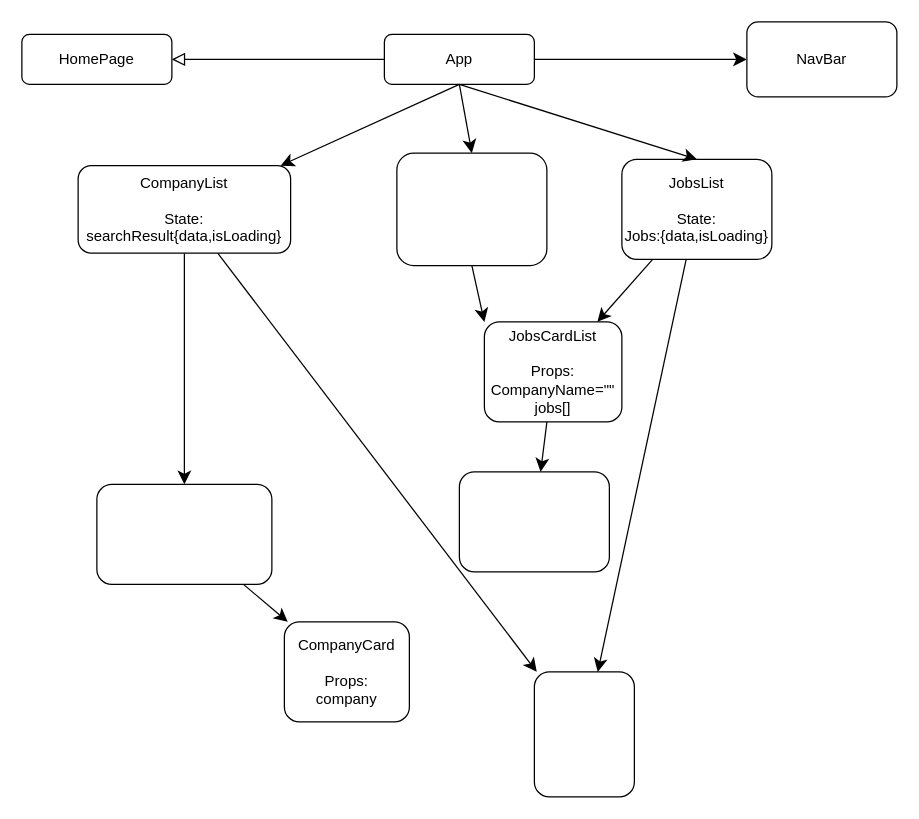
Image size: 919x819. Some labels were removed from this diagram. The shapes that lost their labels are listed below. From the top down, each one's centre as x and y in pixels, then its label:
point (471, 209): CompanyDetail State: Jobs{data,isLoading}
point (184, 533): Comp anyCardList Props: companies[]
point (533, 521): JobCard props: job companyName=""
point (583, 734): SearchForm Props: handleSave() State: InputValue
